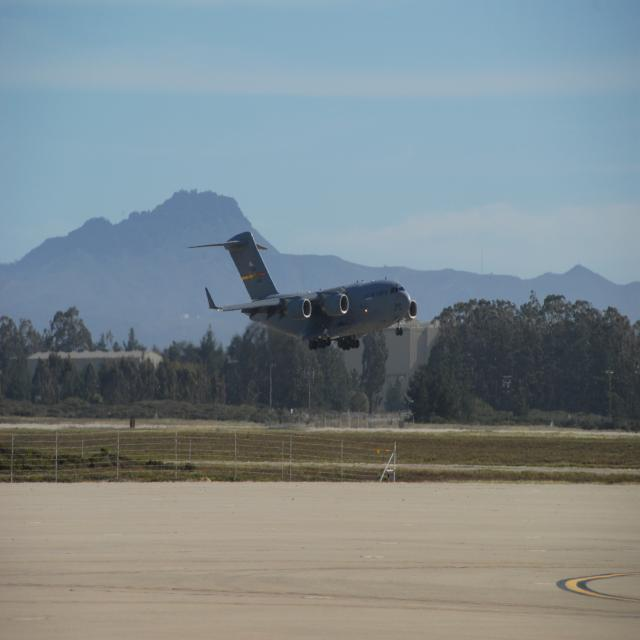MIL_Plane: (148, 232, 379, 349)
